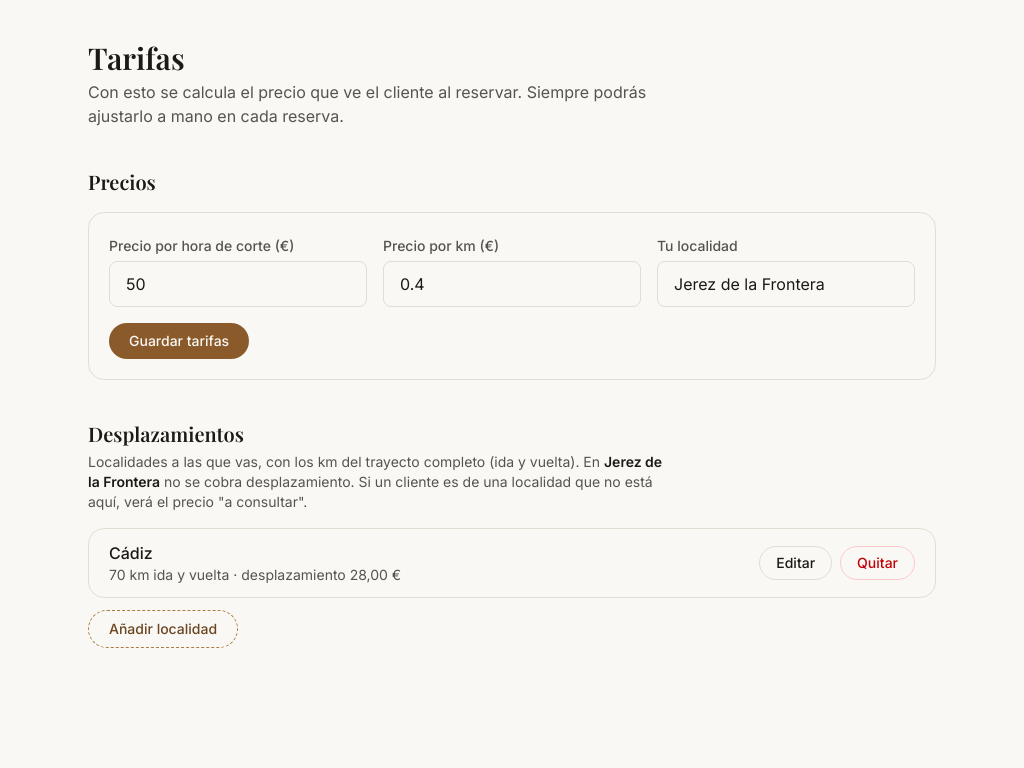
Test: AdminPricing › quitar una localidad pide confirmación y, si se acepta, la borra
Check: the text "Cádiz" is shown, box [109,543,153,563]
Click the button "Quitar" at (878, 563), box [840,546,915,580]
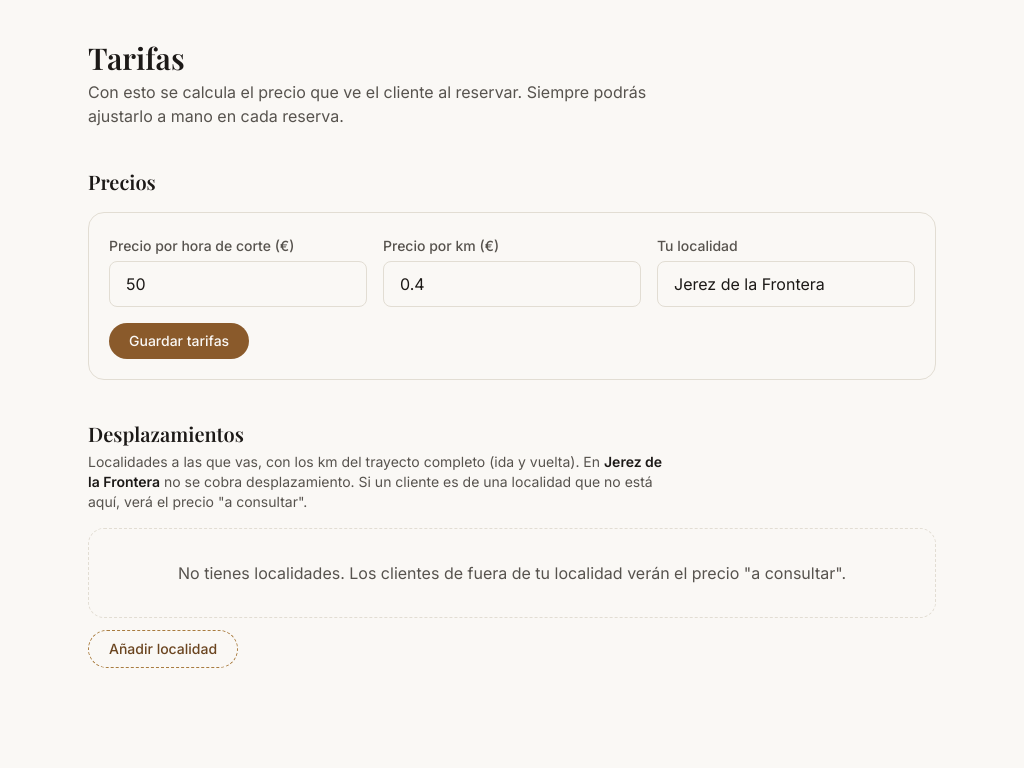
Check: the text "Cádiz" is gone
